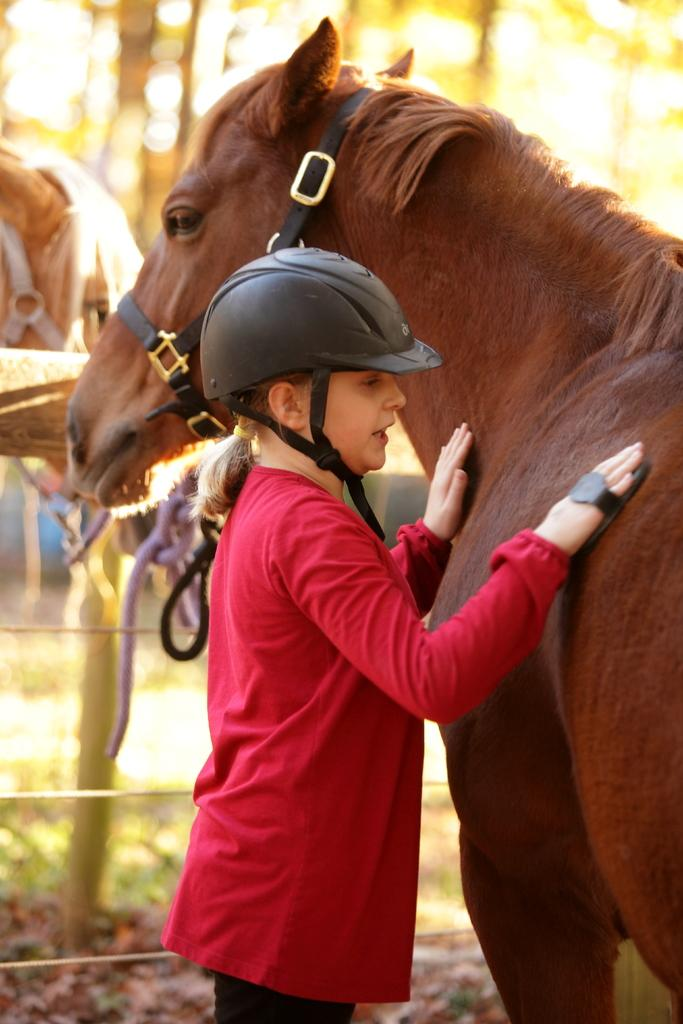Sem Máscara: (291, 368, 405, 468)
